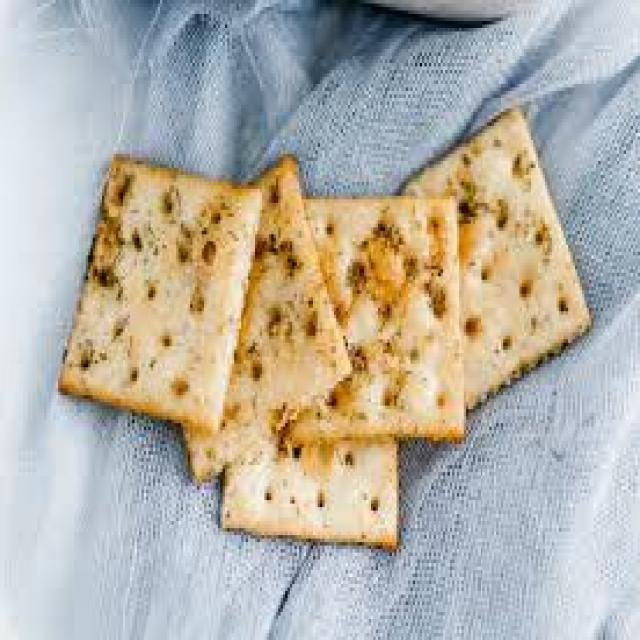Cracker: (49, 144, 263, 431), (153, 165, 357, 466), (399, 108, 594, 420)
